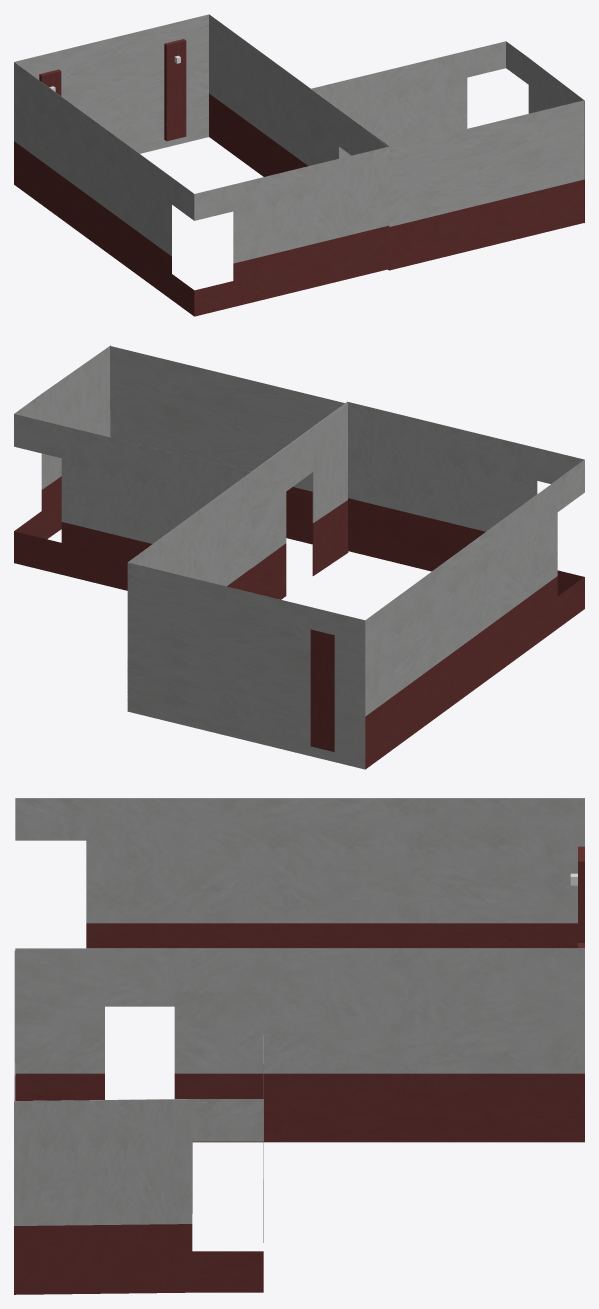
File: Room.fbx
The picture shows the model from 3 angles, top to bottom: view 1: azimuth 30°, elevation 25°; view 2: azimuth 150°, elevation 25°; view 3: azimuth 270°, elevation 25°; orthographic projection. The views are drawn at different scales.
Visible parts, largest first — view 1: Columna; view 2: Columna; view 3: Columna.
Part boxes in pixels (box(x1,y1,x2,y2)): Columna: box(14, 14, 584, 316); Columna: box(14, 345, 584, 769); Columna: box(14, 798, 584, 1294).
Bounding box in the file's own units: 1000 × 304 × 802.
Materials: 3 (2 with a texture image).
